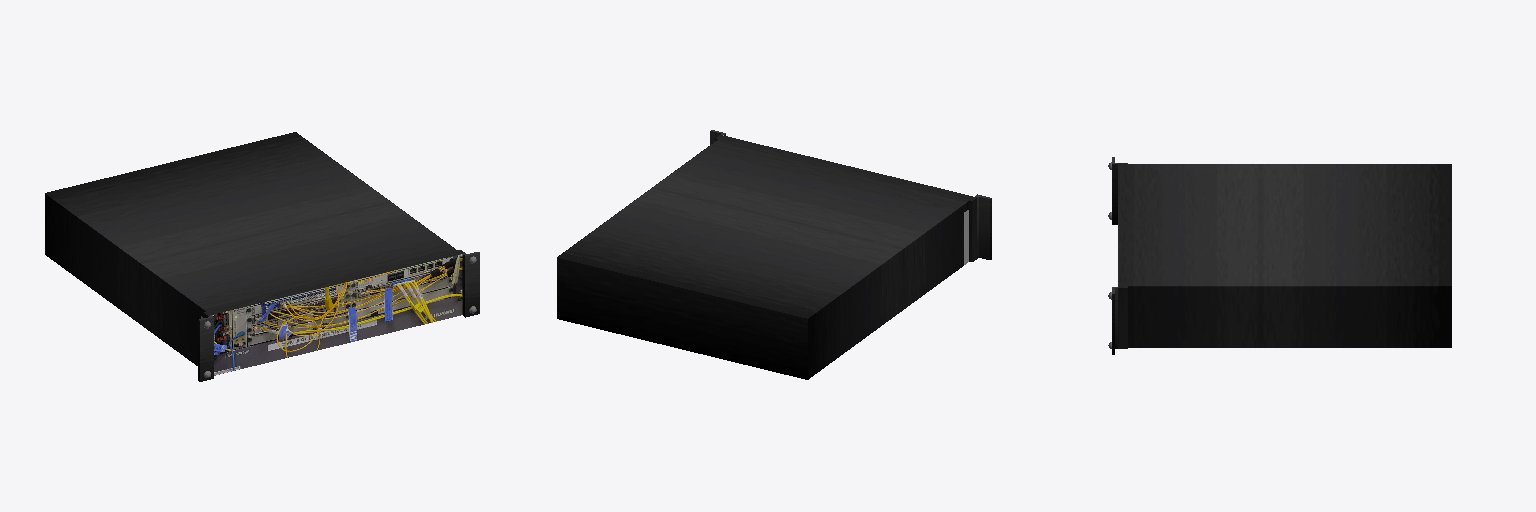
The picture shows the model from 3 angles: view 1: azimuth 30°, elevation 25°; view 2: azimuth 150°, elevation 25°; view 3: azimuth 270°, elevation 25°; orthographic projection.
Visible parts, largest first — view 1: Box001; view 2: Box001; view 3: Box001.
Boxes of the visible parts, x1=… form: Box001: x1=45, y1=132, x2=479, y2=381; Box001: x1=557, y1=130, x2=991, y2=379; Box001: x1=1108, y1=157, x2=1451, y2=354.
Bounding box in the file's own units: 29.33 × 6.15 × 31.15.
1 materials, 1 textured.